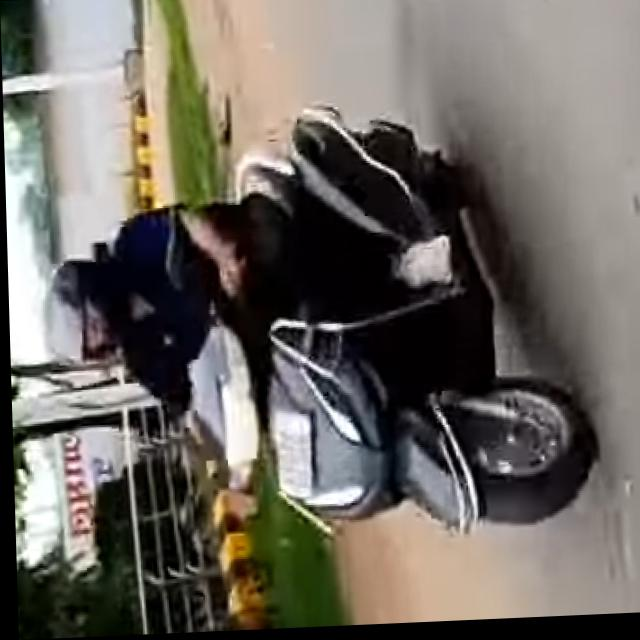WITH_HELMET: (43, 246, 125, 377)
normal: (31, 105, 585, 549)
